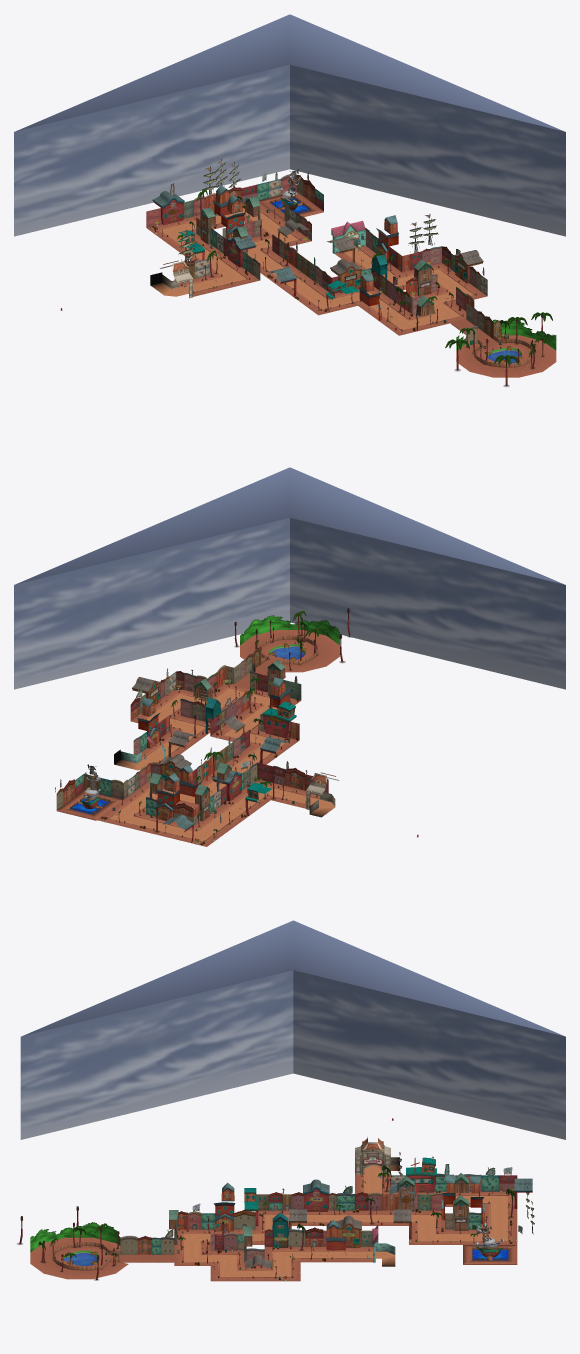
The model's file is barnacle_boulevard.glb.
3 renders of one model, top to bottom at view 1: azimuth 30°, elevation 25°; view 2: azimuth 150°, elevation 25°; view 3: azimuth 270°, elevation 25°, orthographic.
Parts seen in each view (by area): view 1: skypanel5, skypanel4, o1, MMpd_outsideground, o130 (×3), dod_HQ, DDpd_outsidebackground, building1_landmark4c_sideL, DDpd_ground, building1_landmark5c_sideL; view 2: skypanel1, skypanel6, o1, MMpd_outsideground, o130 (×2), DDpd_outsidebackground, dod_HQ, DD_D1_mast, DDpd_ground; view 3: skypanel2, skypanel3, o1, MMpd_outsideground, dod_HQ, DDpd_outsidebackground, o130, DD_D1_mast, building1_landmark4c_sideL, DDpd_fence, DDpd_ground, safe_zone_entrance_front.
Boxes of the visible parts, x1,y1,x2,y2 form: skypanel5: [290, 64, 565, 236]; skypanel4: [14, 64, 289, 236]; o1: [14, 14, 565, 131]; MMpd_outsideground: [456, 335, 556, 377]; o130 (×3): [220, 194, 398, 320]; dod_HQ: [259, 187, 323, 220]; DDpd_outsidebackground: [456, 319, 556, 350]; building1_landmark4c_sideL: [152, 191, 184, 224]; DDpd_ground: [475, 339, 532, 363]; building1_landmark5c_sideL: [330, 259, 362, 293]; skypanel1: [290, 517, 565, 689]; skypanel6: [14, 517, 289, 689]; o1: [14, 467, 565, 584]; MMpd_outsideground: [240, 630, 339, 672]; o130 (×2): [137, 697, 180, 822]; DDpd_outsidebackground: [240, 615, 339, 645]; dod_HQ: [56, 787, 122, 820]; DD_D1_mast: [262, 699, 296, 738]; DDpd_ground: [261, 639, 316, 665]; skypanel2: [20, 970, 293, 1139]; skypanel3: [293, 970, 565, 1139]; o1: [22, 920, 565, 1036]; MMpd_outsideground: [30, 1237, 128, 1279]; dod_HQ: [463, 1237, 517, 1264]; DDpd_outsidebackground: [30, 1222, 120, 1252]; o130: [213, 1182, 235, 1231]; DD_D1_mast: [406, 1156, 436, 1192]; building1_landmark4c_sideL: [303, 1179, 329, 1211]; DDpd_fence: [52, 1242, 120, 1270]; DDpd_ground: [53, 1246, 120, 1266]; safe_zone_entrance_front: [355, 1151, 390, 1174].
Size of the model in its own units: 698 by 357 by 612.
Materials: 312 (310 with a texture image).
